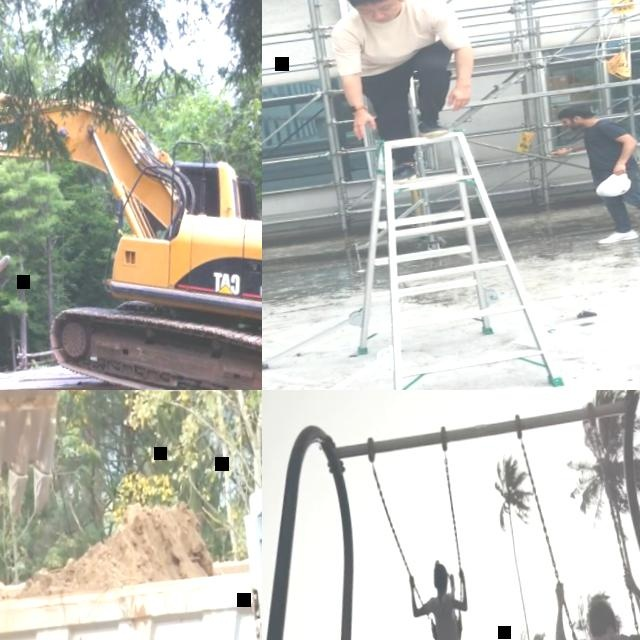Hardhat: (591, 172, 633, 204)
NO-Hardhat: (587, 593, 614, 620), (555, 105, 593, 123), (429, 559, 448, 582)
NO-Mask: (362, 10, 405, 25), (564, 121, 583, 132)
NO-Safety Vest: (345, 0, 446, 79), (583, 120, 635, 181), (429, 591, 459, 640)
Person: (323, 0, 488, 191), (544, 95, 640, 253), (546, 563, 640, 640), (407, 555, 473, 640)
machinery: (0, 35, 262, 390), (0, 456, 262, 640), (0, 390, 96, 538)
vehicle: (0, 241, 148, 390)
